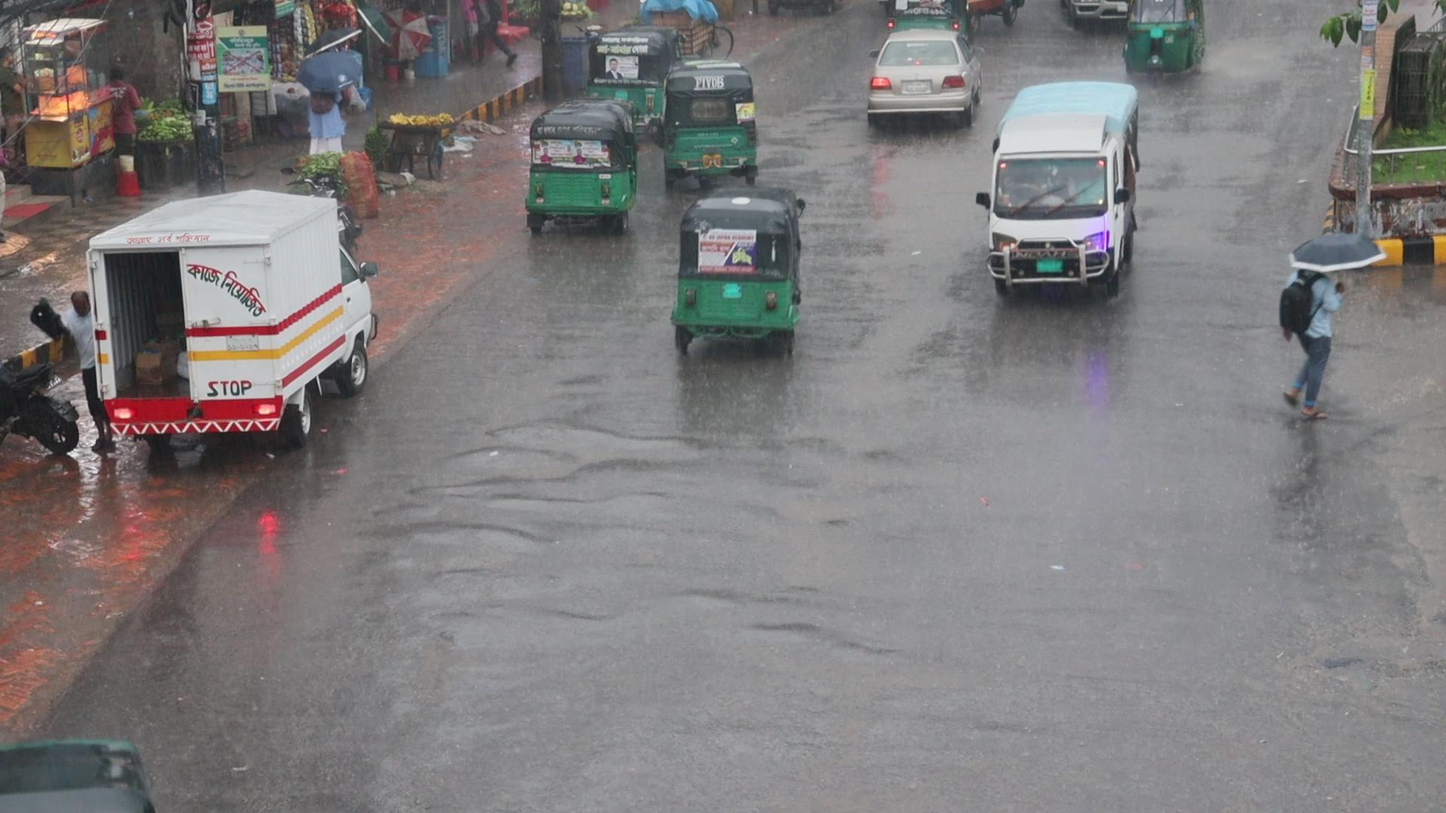Car: (987, 78, 1145, 303), (860, 29, 980, 134)
